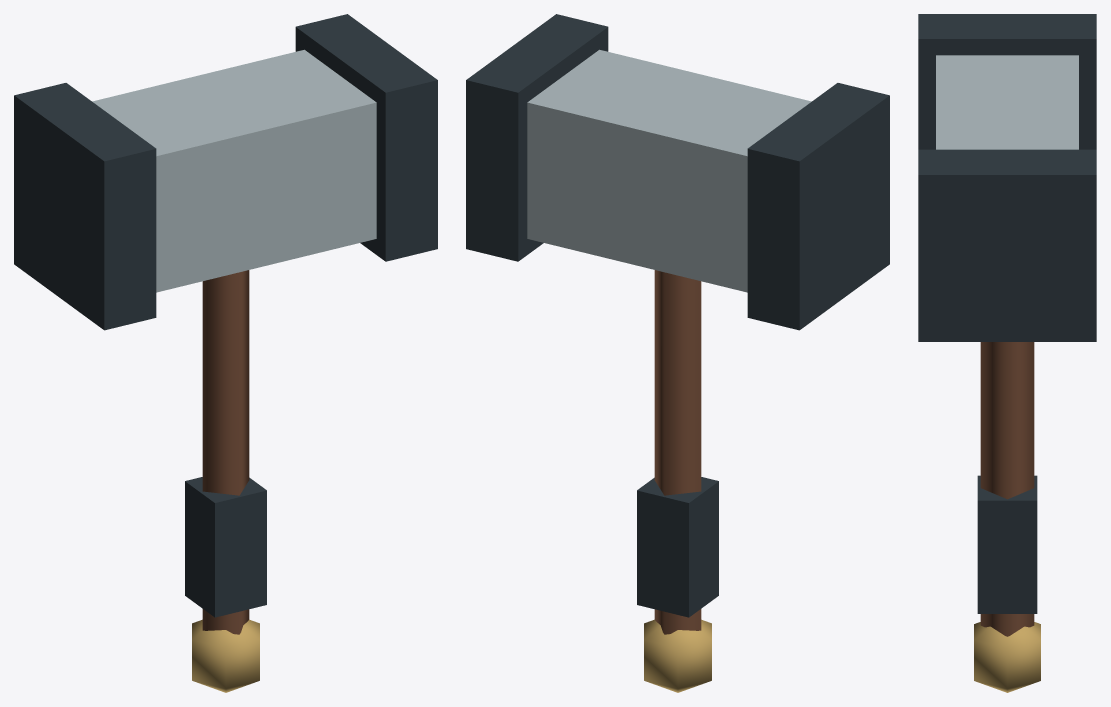
The model's file is fixed-maul-lod2.glb.
3 views of the same model, side by side, from view 1: azimuth 30°, elevation 25°; view 2: azimuth 150°, elevation 25°; view 3: azimuth 270°, elevation 25° (orthographic).
Parts seen in each view (by area): view 1: piece_whole; view 2: piece_whole; view 3: piece_whole.
Boxes of the visible parts, x1,y1,x2,y2 form: piece_whole: [14, 14, 437, 692]; piece_whole: [466, 14, 889, 692]; piece_whole: [918, 14, 1096, 692].
Bounding box in the file's own units: 0.64 × 1.11 × 0.3.
